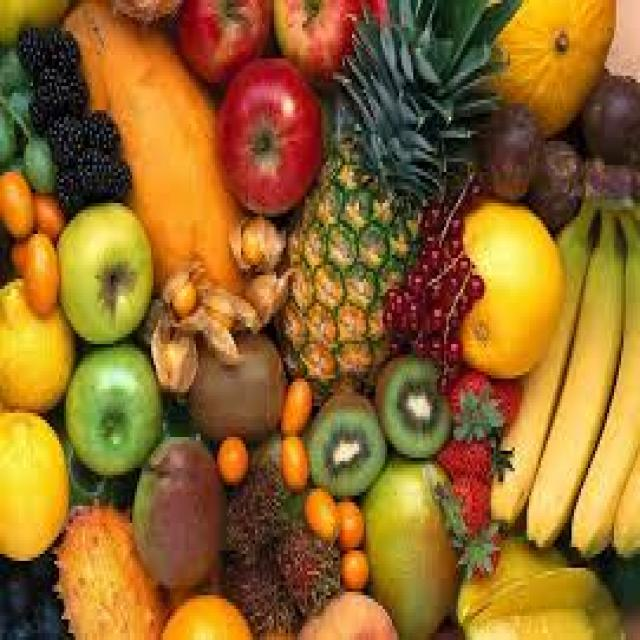organic waste: (0, 0, 638, 637), (57, 0, 250, 313), (514, 162, 638, 544), (486, 158, 593, 530), (328, 0, 517, 203), (269, 144, 416, 396), (564, 162, 638, 568), (465, 0, 612, 134), (361, 450, 458, 636), (212, 52, 319, 206), (48, 502, 166, 636), (54, 196, 156, 341), (130, 433, 227, 585), (61, 334, 163, 475), (180, 327, 284, 437), (0, 406, 68, 561), (269, 0, 387, 89), (0, 275, 73, 406), (302, 385, 385, 499), (172, 0, 272, 86), (371, 348, 446, 458), (222, 547, 295, 637), (474, 100, 540, 196), (57, 423, 130, 509), (522, 134, 581, 234), (440, 361, 524, 430), (267, 523, 338, 602), (142, 292, 198, 392), (290, 588, 402, 636), (578, 73, 638, 158), (232, 461, 290, 533), (156, 595, 248, 637), (7, 230, 54, 310), (227, 206, 286, 265), (156, 561, 224, 612), (609, 444, 638, 554), (439, 471, 484, 537), (220, 488, 262, 558), (241, 265, 288, 327), (201, 282, 260, 330), (0, 0, 73, 38), (161, 258, 203, 320), (0, 165, 35, 237), (454, 523, 498, 578), (451, 389, 503, 433), (16, 124, 52, 186), (28, 179, 64, 234), (212, 430, 250, 482), (33, 585, 71, 637), (45, 106, 80, 162), (300, 482, 335, 536), (432, 482, 461, 547), (276, 375, 310, 430), (196, 313, 236, 355), (31, 65, 64, 114), (2, 564, 33, 616), (278, 434, 304, 492), (12, 24, 45, 69), (73, 145, 106, 189), (333, 496, 359, 550), (42, 24, 78, 62), (108, 0, 182, 17), (0, 96, 19, 162), (0, 48, 26, 93), (82, 107, 116, 141), (52, 162, 80, 203), (338, 547, 366, 585), (56, 68, 82, 106), (29, 547, 54, 585), (106, 151, 128, 193), (253, 434, 283, 461), (5, 86, 28, 117), (0, 615, 28, 636), (23, 93, 42, 120), (385, 337, 406, 361), (404, 306, 425, 327), (425, 303, 442, 327), (411, 337, 430, 358), (394, 289, 408, 317), (437, 365, 453, 389), (463, 272, 479, 296), (378, 306, 392, 331), (425, 279, 442, 299), (444, 337, 456, 365), (437, 241, 453, 261), (446, 299, 461, 320), (428, 244, 442, 265), (409, 282, 425, 300), (425, 200, 439, 220), (430, 224, 446, 241), (404, 265, 420, 282), (428, 337, 440, 358), (418, 224, 430, 244), (444, 272, 461, 286), (382, 289, 394, 306), (446, 213, 458, 230), (454, 252, 466, 268), (418, 258, 430, 272), (458, 289, 470, 303), (418, 213, 427, 227), (446, 234, 458, 244), (411, 244, 423, 251)
